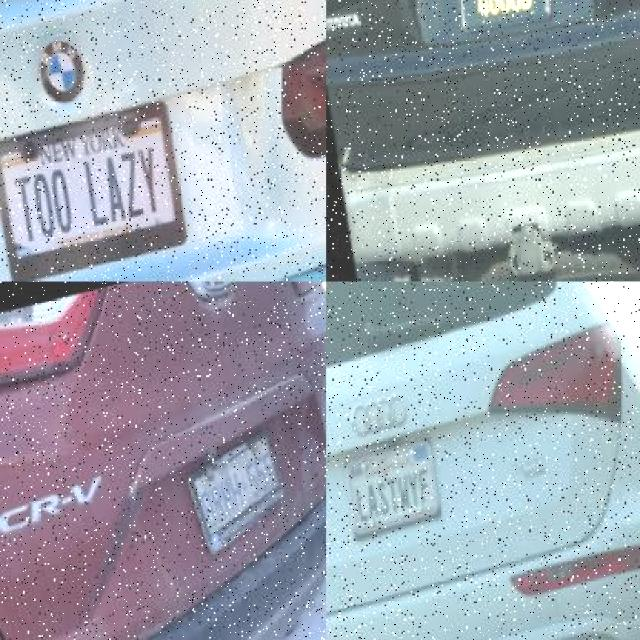licenseplate: (0, 101, 195, 282), (189, 428, 291, 558), (339, 433, 452, 544), (449, 0, 562, 57)
